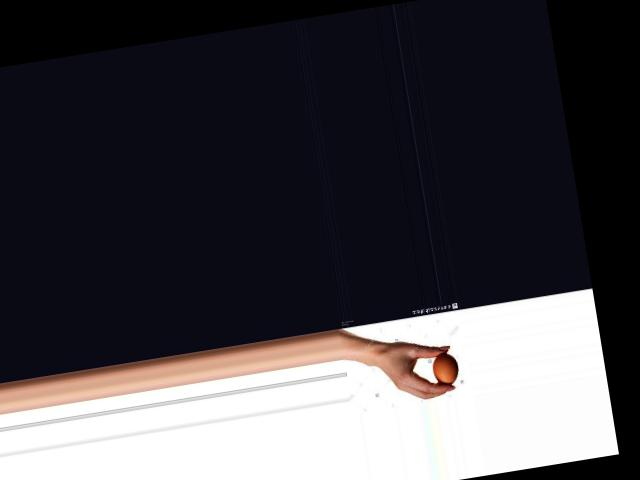egg: (429, 351, 459, 386)
